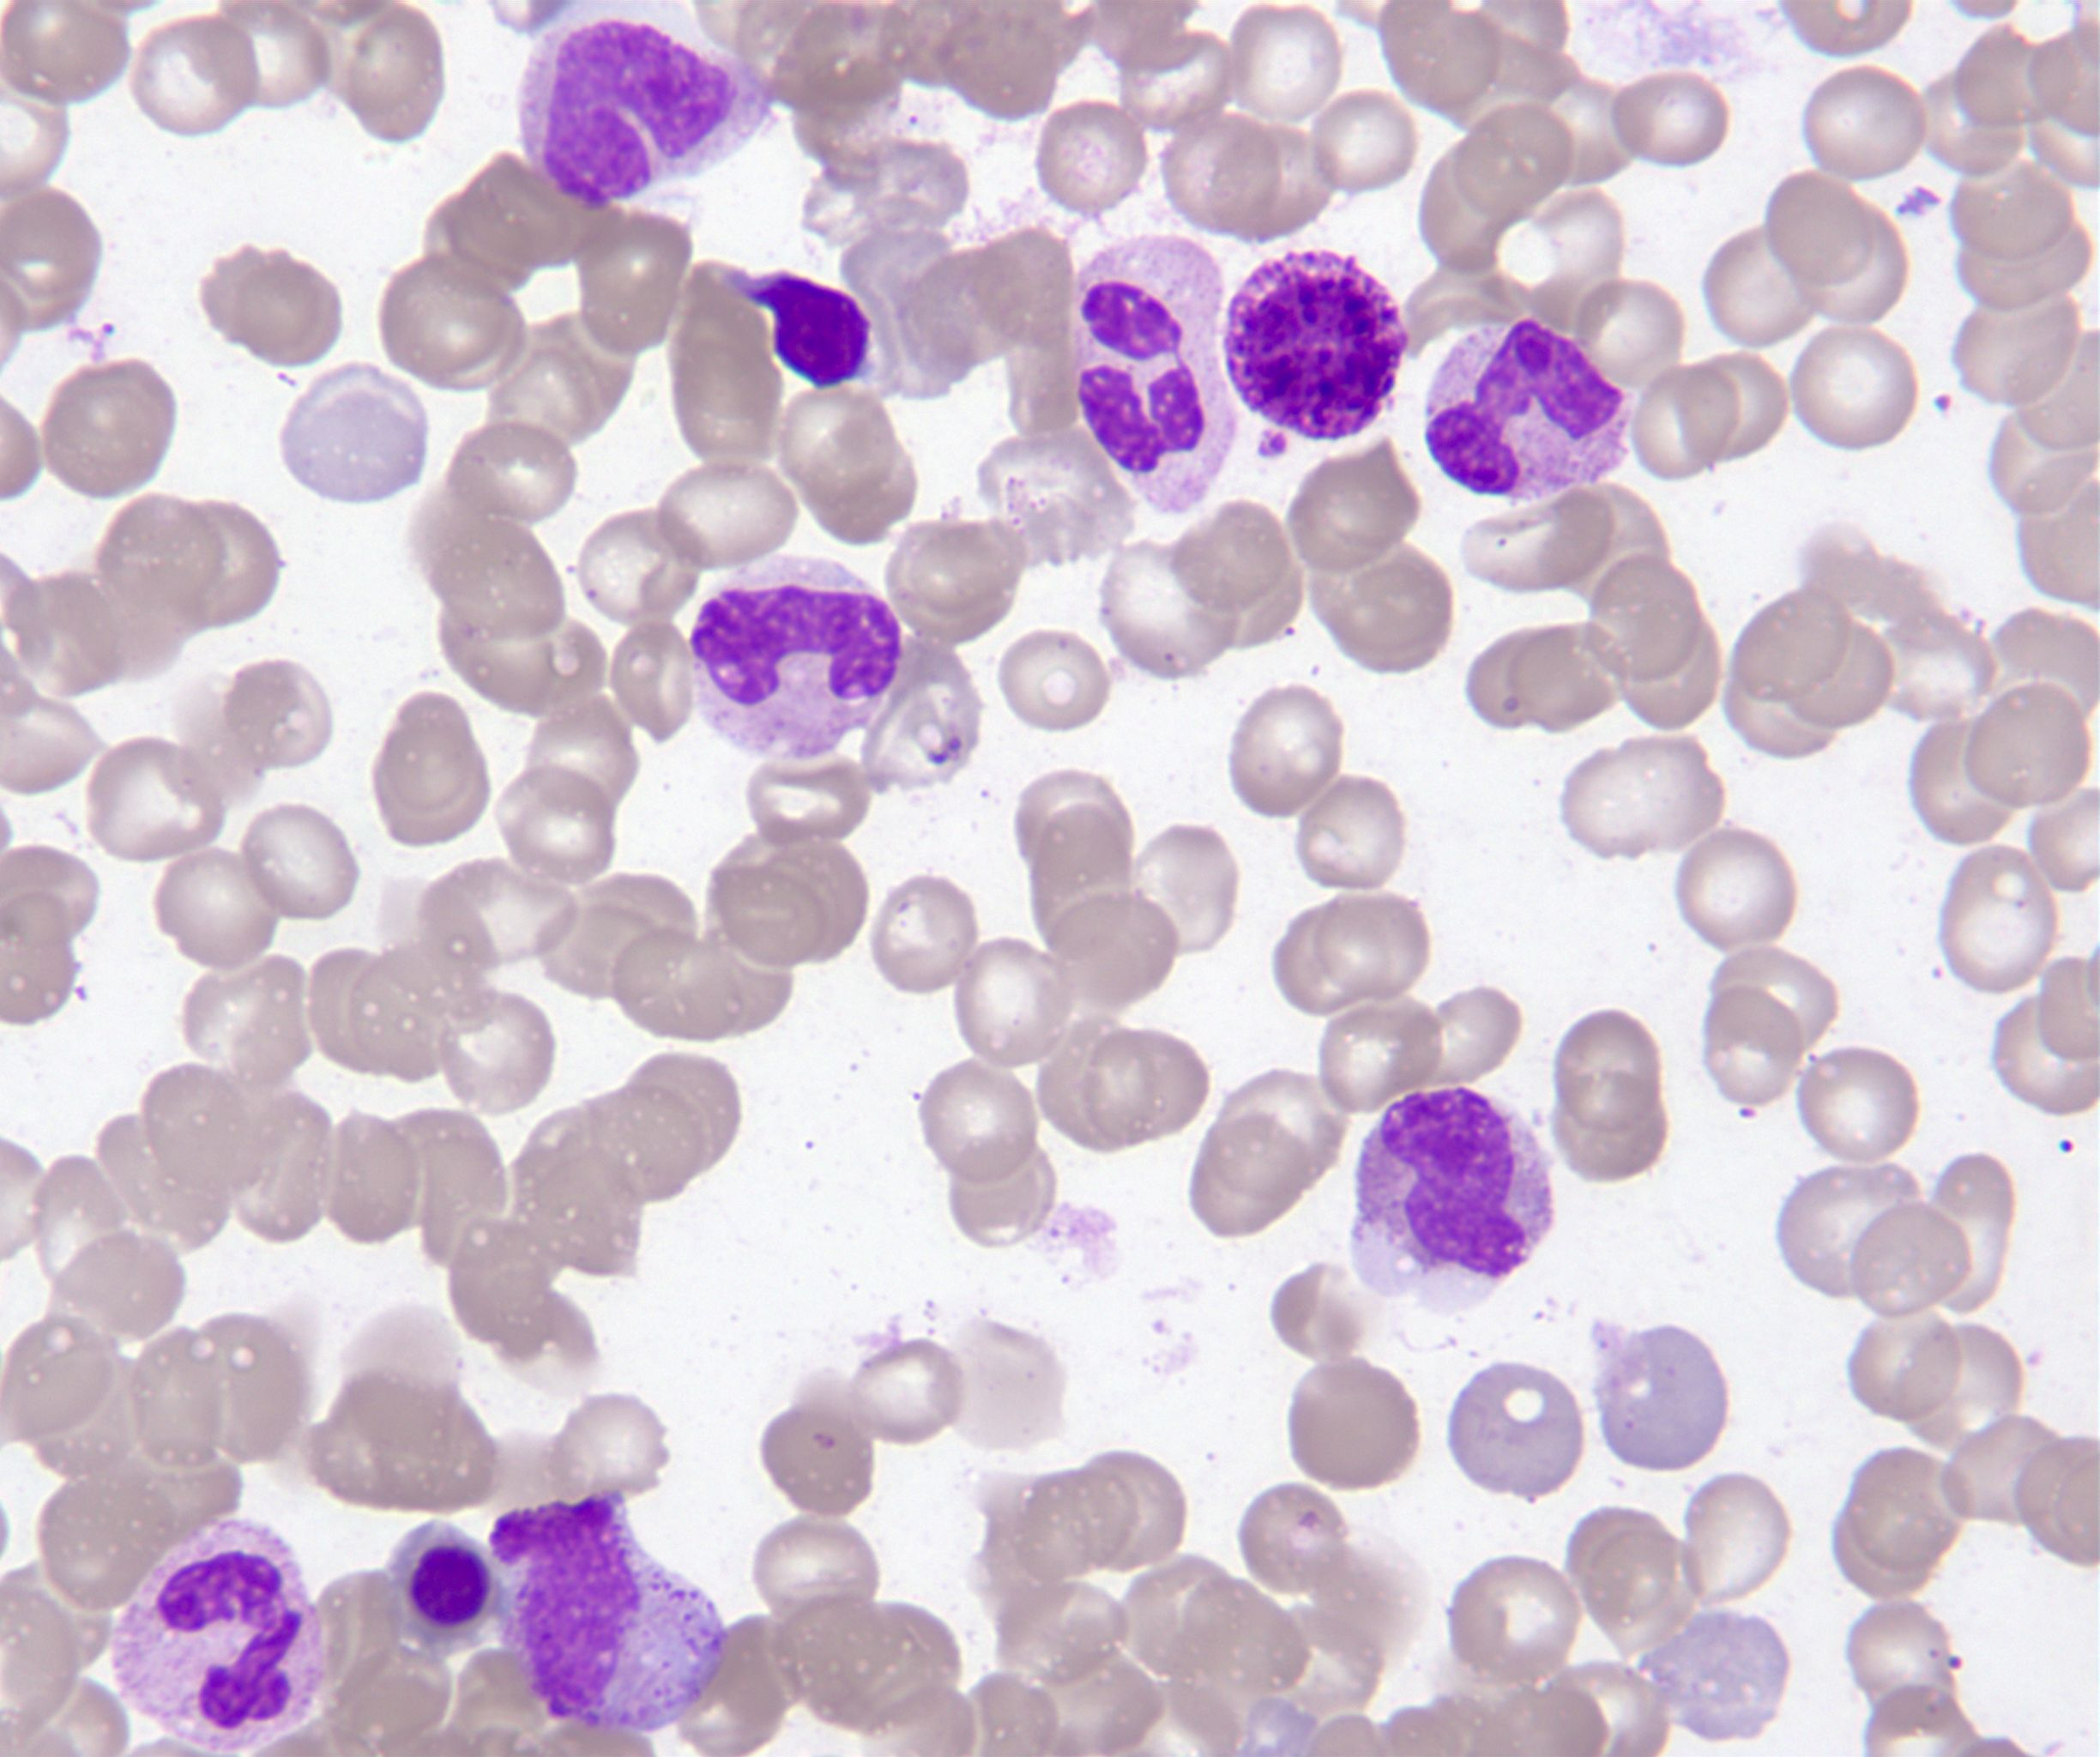24: (385, 1513, 509, 1661)
32: (733, 265, 883, 403)
4: (483, 1483, 733, 1740), (515, 10, 776, 220), (1345, 1077, 1561, 1303)
5: (105, 1511, 331, 1757), (680, 551, 910, 764), (1415, 311, 1641, 508)
6: (1062, 232, 1237, 520)
B3: (1214, 243, 1415, 454)
